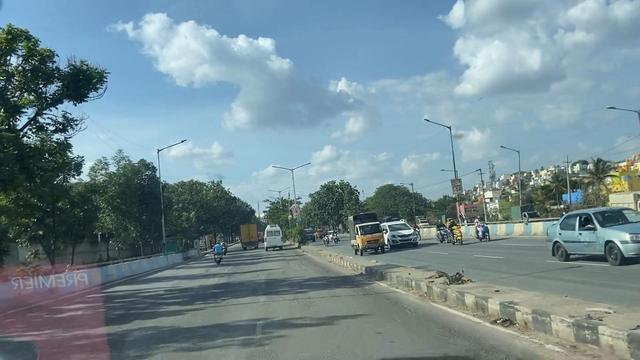HMV: (267, 218, 286, 253), (235, 220, 257, 250)
LMV: (210, 239, 225, 266)
